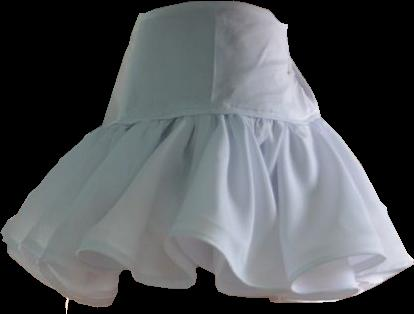Hemline: (0, 232, 412, 309)
Waistline: (137, 0, 288, 25), (101, 112, 321, 125)
